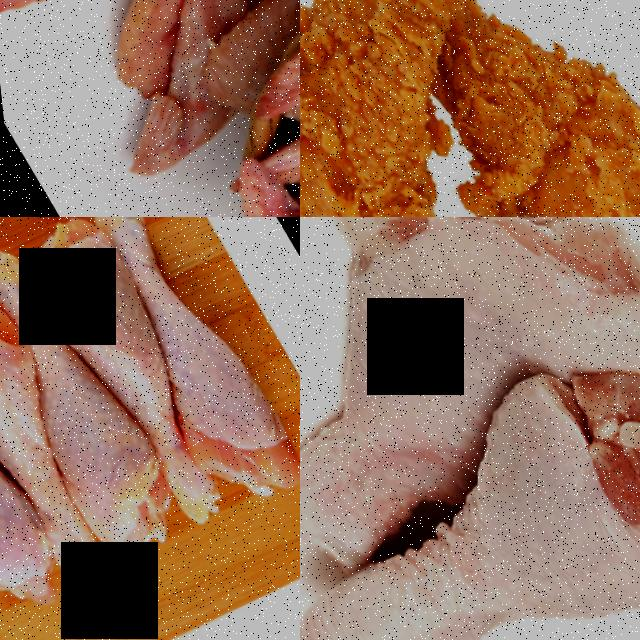chicken thigh: (300, 217, 640, 586), (300, 282, 640, 640), (15, 217, 247, 528), (76, 217, 300, 492), (0, 236, 186, 558), (0, 257, 141, 595), (0, 292, 60, 607)
